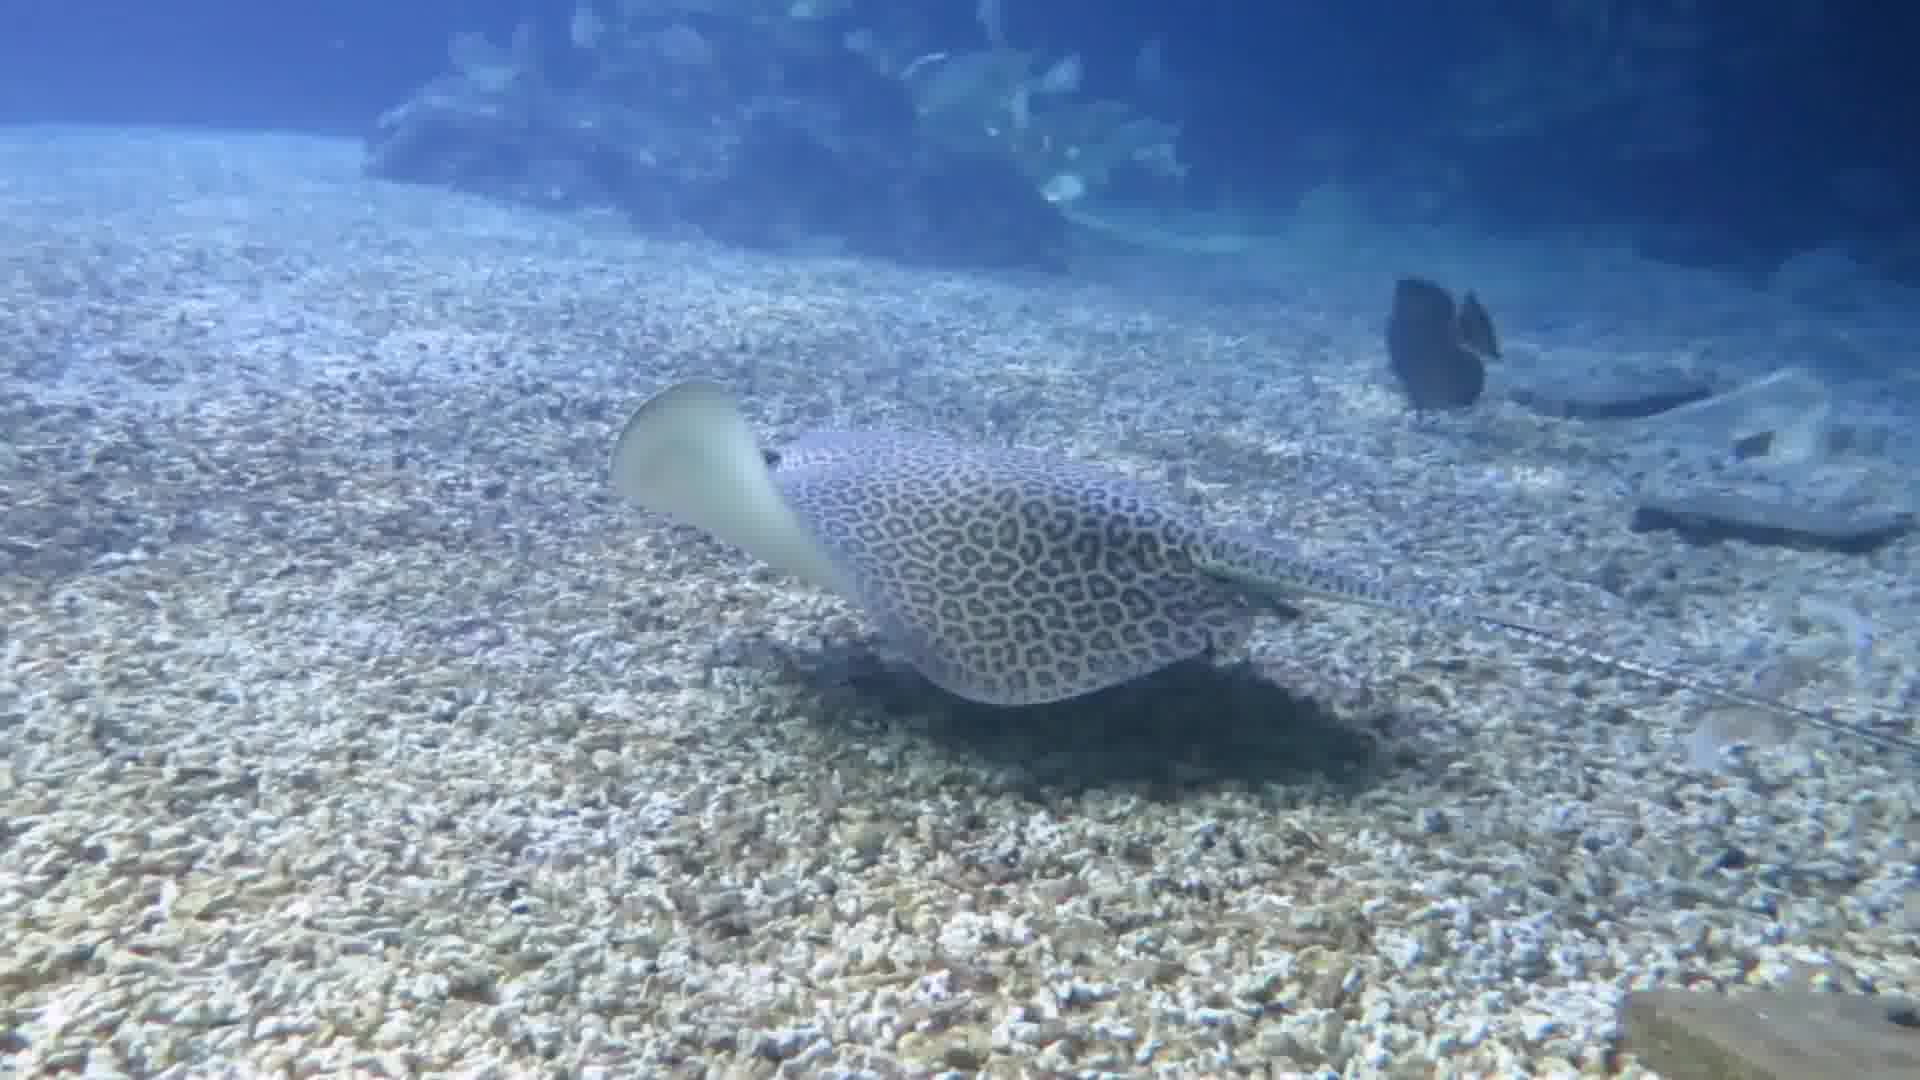Himantura uarnak: (560, 363, 1920, 840)
